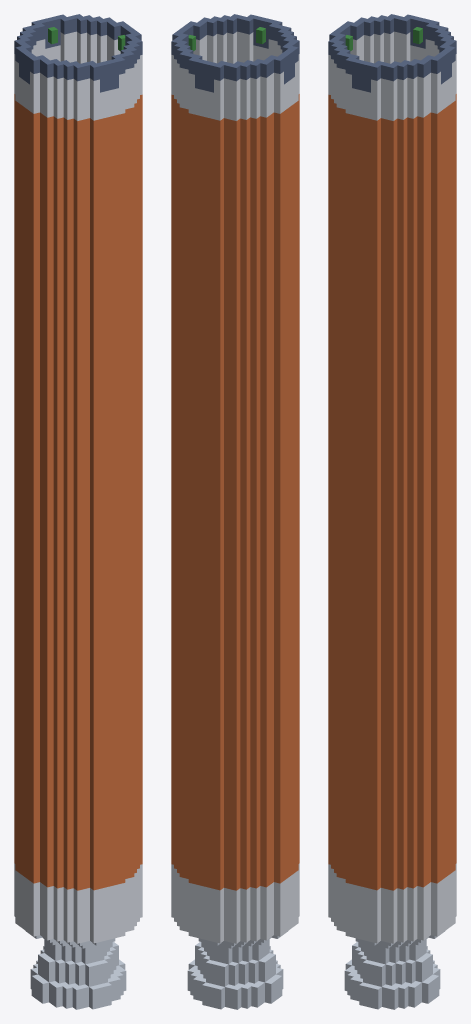
The model's file is Sun_V_first_stage.glb.
3 renders of one model, left to right at view 1: azimuth 30°, elevation 25°; view 2: azimuth 150°, elevation 25°; view 3: azimuth 330°, elevation 25°, orthographic.
Parts seen in each view (by area): view 1: ObjObject.035; view 2: ObjObject.035; view 3: ObjObject.035.
Part boxes in pixels (bbox=[...]): ObjObject.035: bbox=[14, 14, 142, 1009]; ObjObject.035: bbox=[171, 14, 299, 1009]; ObjObject.035: bbox=[328, 14, 456, 1009].
Bounding box in the file's own units: 1.7 × 14.3 × 1.7.
1 material, 1 textured.
